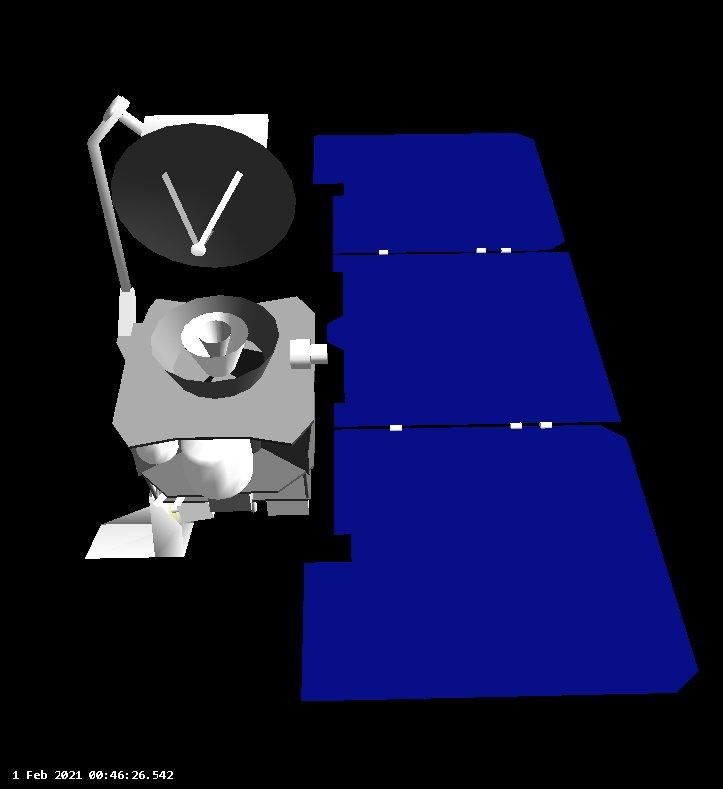antenna: (108, 118, 298, 273)
body: (114, 290, 331, 527)
solar: (298, 128, 705, 703)
thruster: (147, 289, 281, 404)
